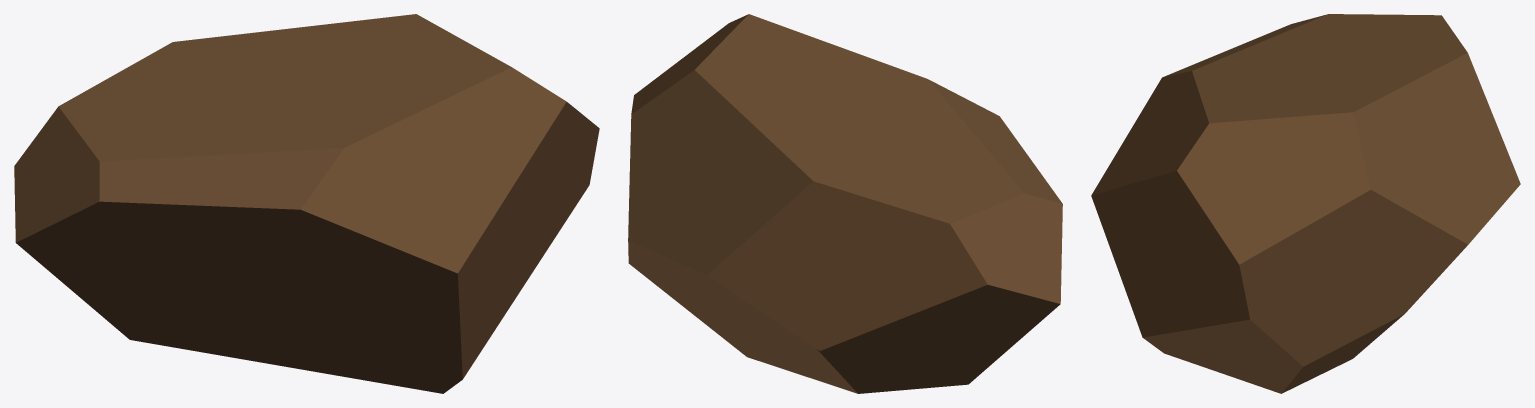
Rendered from stone-diamond_brown.glb.
3 renders of one model, left to right at view 1: azimuth 30°, elevation 25°; view 2: azimuth 150°, elevation 25°; view 3: azimuth 270°, elevation 25°, orthographic. The views are drawn at different scales.
Parts seen in each view (by area): view 1: stone-diamond_brown; view 2: stone-diamond_brown; view 3: stone-diamond_brown.
Boxes of the visible parts, x1,y1,x2,y2 form: stone-diamond_brown: (14, 14, 599, 393); stone-diamond_brown: (628, 14, 1062, 393); stone-diamond_brown: (1091, 14, 1520, 393).
Bounding box in the file's own units: 1.81 × 1 × 1.38.
